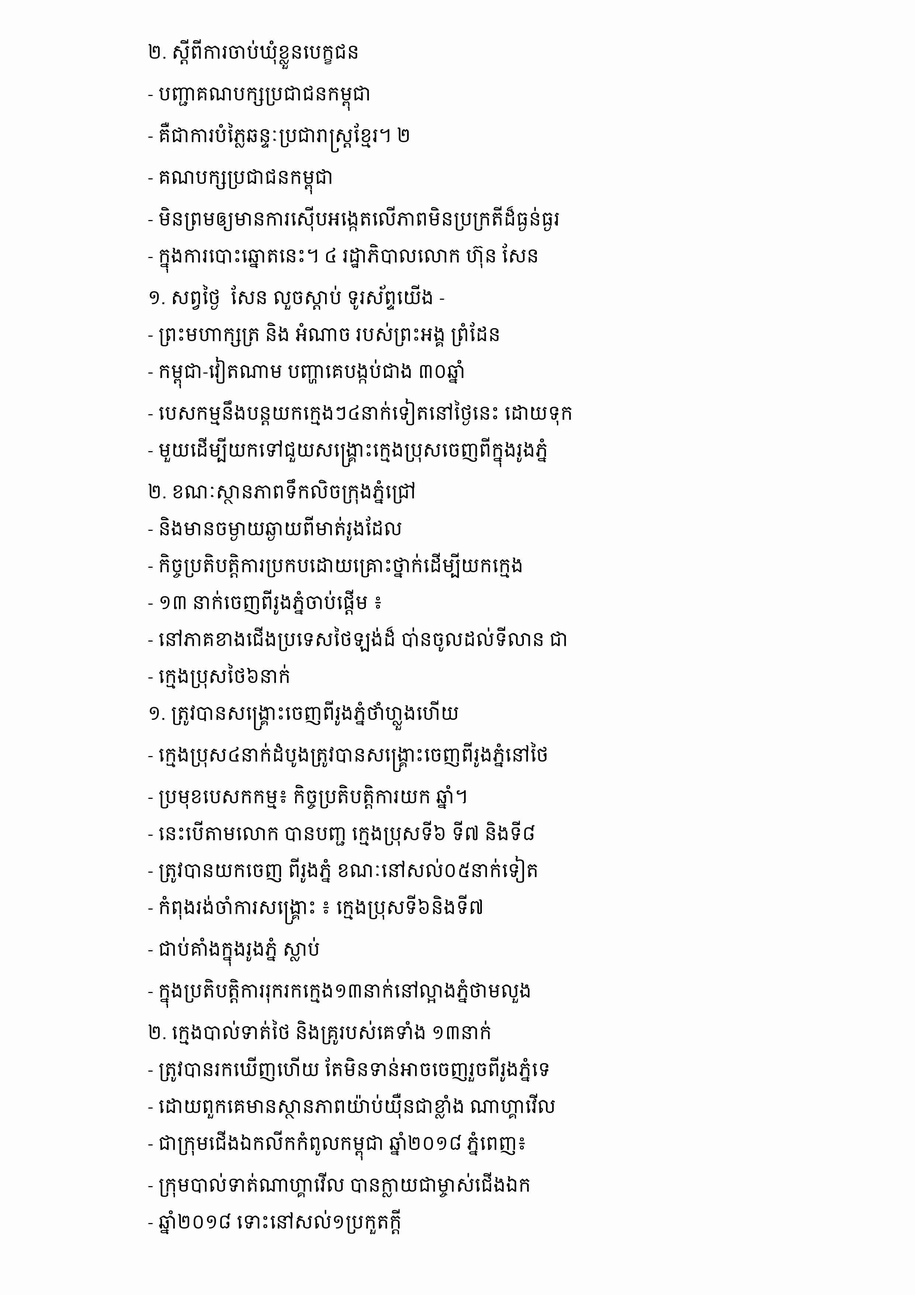text: (148, 742, 554, 772), (148, 437, 553, 467), (148, 398, 578, 426), (148, 1130, 532, 1161), (148, 243, 544, 273), (148, 979, 537, 1008), (148, 626, 573, 652), (148, 1093, 561, 1119), (148, 856, 544, 883), (148, 894, 489, 925), (148, 206, 565, 231), (148, 357, 470, 389), (148, 1057, 555, 1082), (148, 1172, 536, 1198), (148, 821, 541, 846), (148, 700, 464, 731), (148, 553, 528, 578), (148, 322, 505, 347), (148, 1020, 497, 1045), (148, 122, 416, 153), (148, 784, 473, 809), (148, 285, 450, 310), (148, 479, 421, 504), (148, 39, 364, 69), (148, 516, 407, 541), (148, 1209, 407, 1234), (148, 590, 388, 615), (148, 86, 376, 111), (148, 937, 325, 966), (148, 169, 338, 195), (148, 663, 296, 689)
